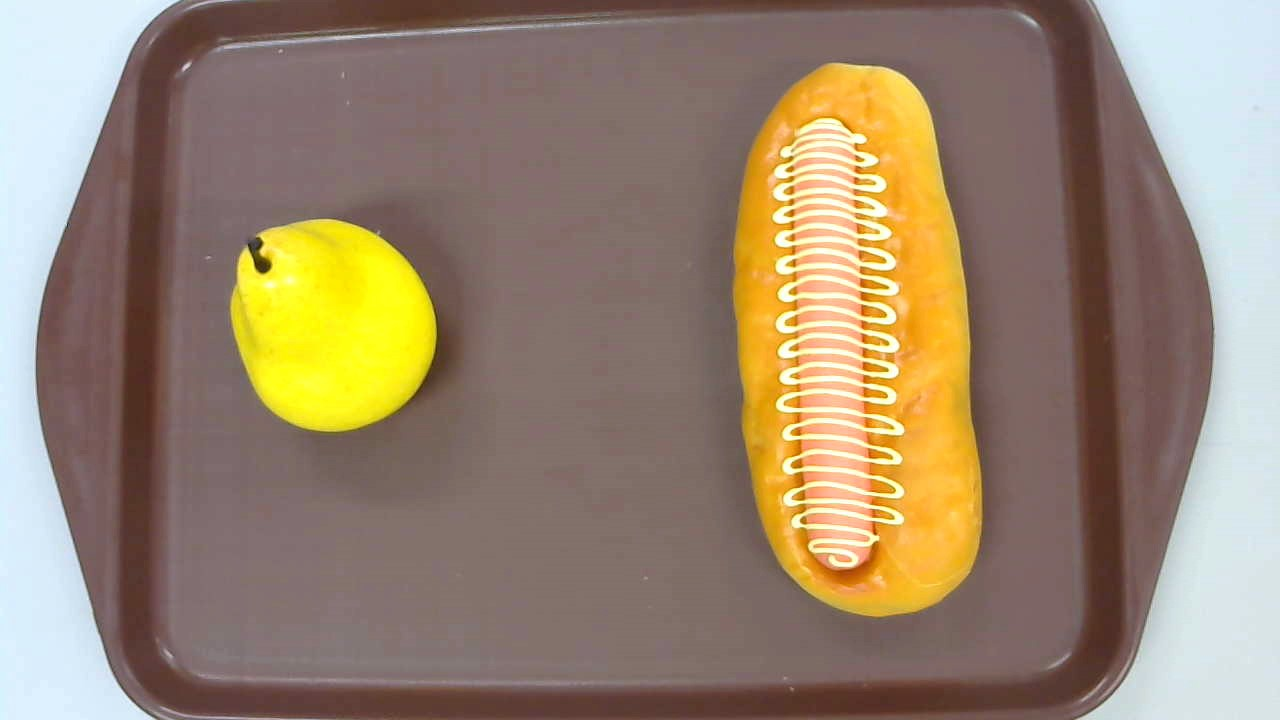hot dog: (731, 61, 983, 617)
yellow pear: (229, 216, 436, 434)
